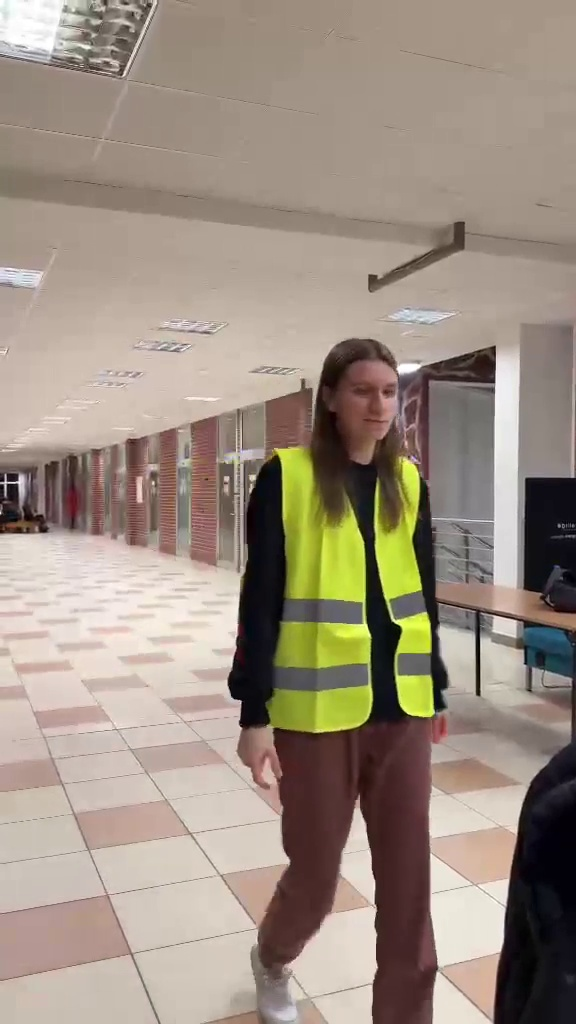vest: (236, 325, 442, 989)
